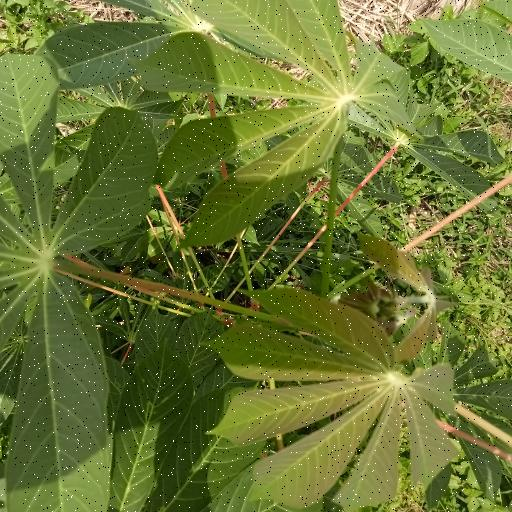Cassava_Healthy: (45, 1, 412, 244), (0, 53, 164, 512), (222, 248, 460, 512)
